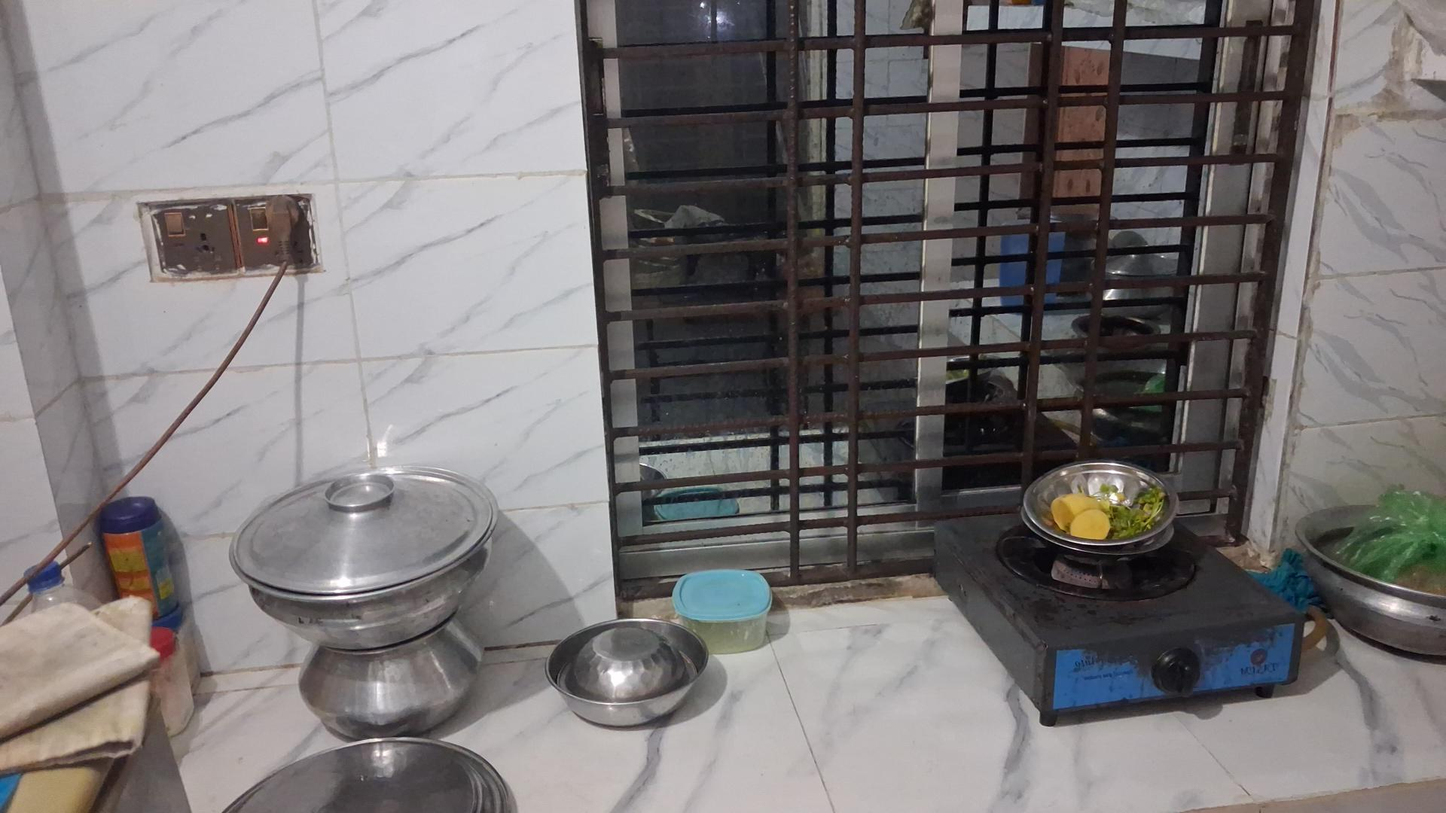Bowl: (547, 621, 707, 717), (1020, 460, 1174, 556)
Food: (1048, 483, 1153, 545)
Jar: (93, 500, 189, 609), (122, 625, 202, 730), (679, 571, 775, 654)
Pot: (226, 471, 501, 635), (1295, 512, 1446, 659), (292, 629, 486, 733)
